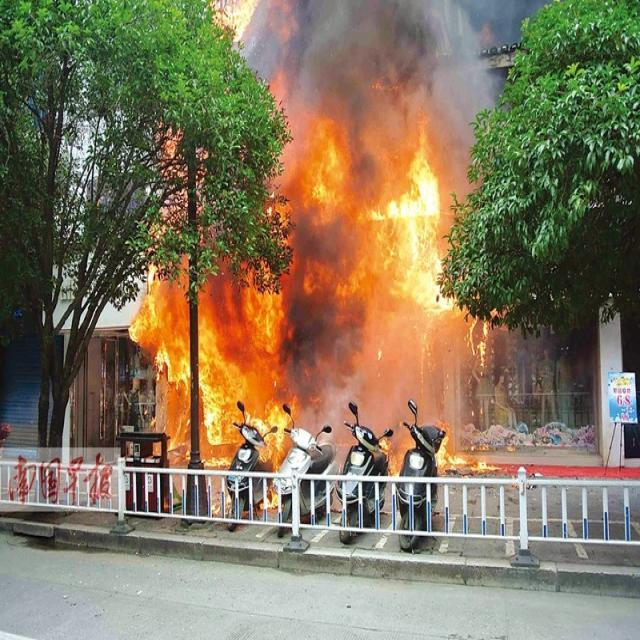Fire: (388, 157, 450, 313), (128, 279, 189, 394), (199, 324, 243, 444), (265, 394, 295, 448), (436, 430, 466, 466)
Smoke: (258, 0, 488, 149)
